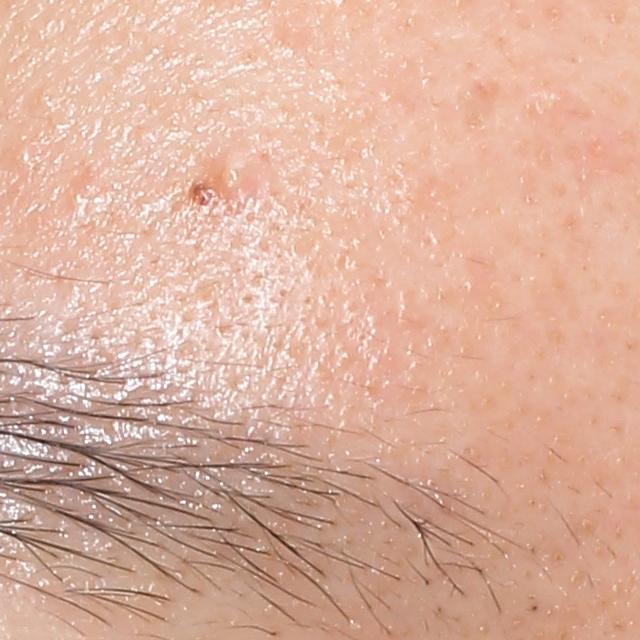comedo: (6, 137, 39, 173)
nevus: (188, 179, 216, 212)
pustule: (212, 144, 262, 206)
